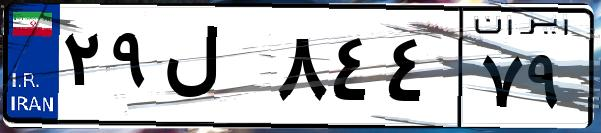2: (57, 26, 110, 100)
4: (385, 28, 445, 110), (330, 28, 385, 110)
7: (475, 38, 525, 113)
8: (270, 28, 330, 110)
9: (525, 38, 570, 115), (110, 28, 158, 98)
ل: (158, 20, 270, 120)
